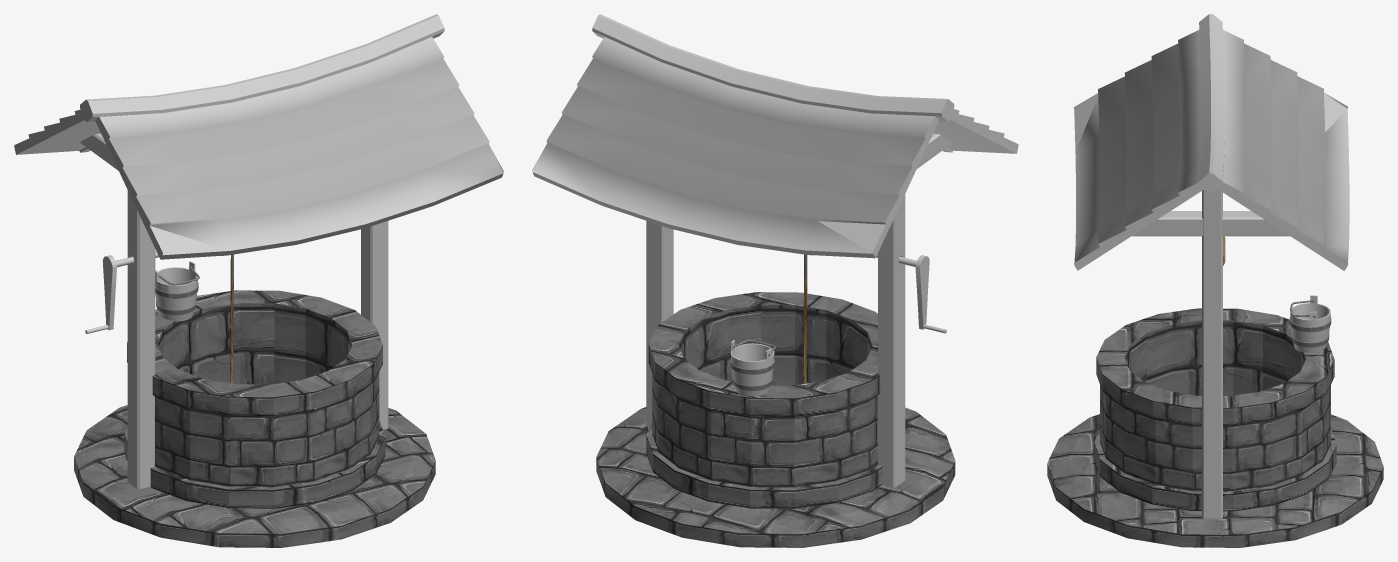
File: well.obj
The picture shows the model from 3 angles, left to right: view 1: azimuth 30°, elevation 25°; view 2: azimuth 150°, elevation 25°; view 3: azimuth 270°, elevation 25°; orthographic projection. The views are drawn at different scales.
Bounding box in the file's own units: 119 × 133 × 105.
